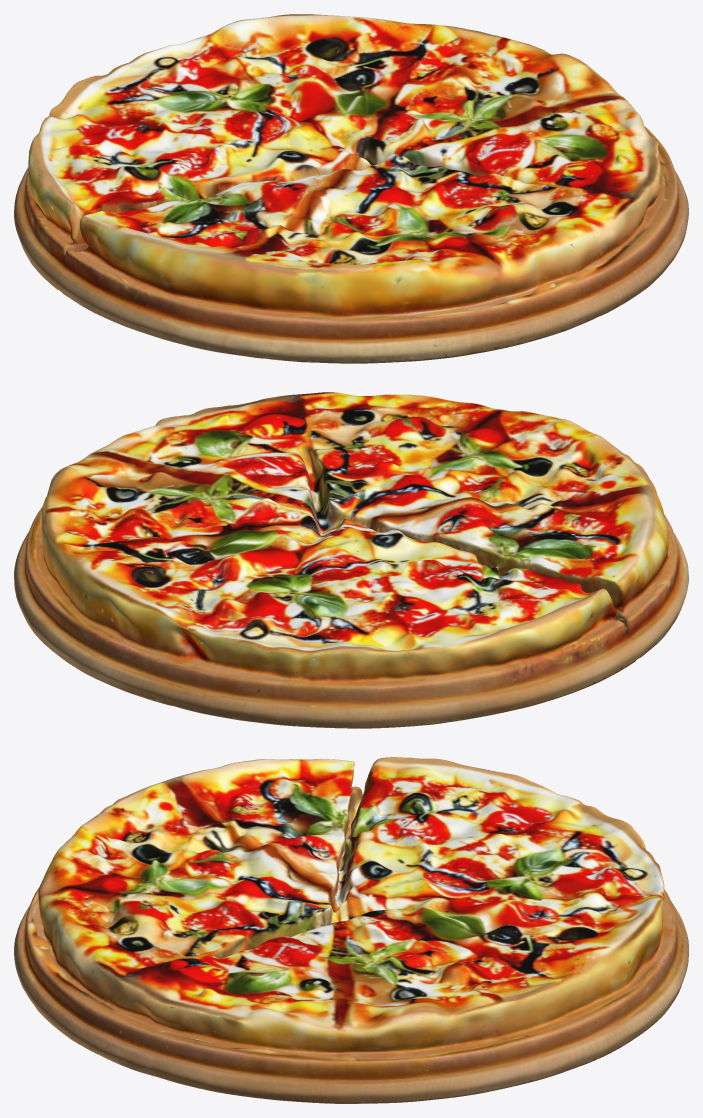
The model's file is dish.glb.
The picture shows the model from 3 angles, top to bottom: view 1: azimuth 30°, elevation 25°; view 2: azimuth 150°, elevation 25°; view 3: azimuth 270°, elevation 25°; orthographic projection.
Size of the model in its own units: 2 by 0.2731 by 2.
Materials: 1 (1 with a texture image).
